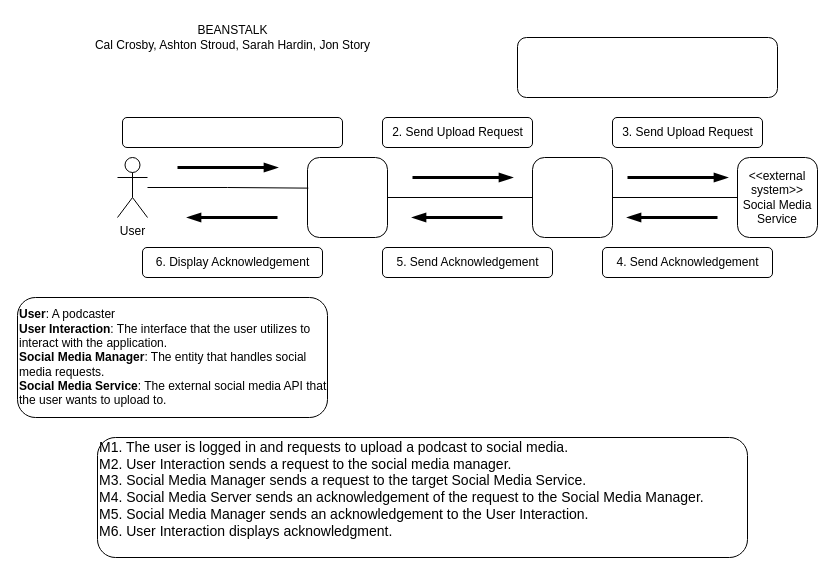
This 835x575 diagram has some shape labels left out. Each missing label, with the centre of its shape:
1. Request to Upload to Social Media: pixel 232 132
<<entity>> Social Media Manager: pixel 572 197
<<user interaction>> User Interaction: pixel 347 197
Social Media Interaction Diagram: pixel 647 67
